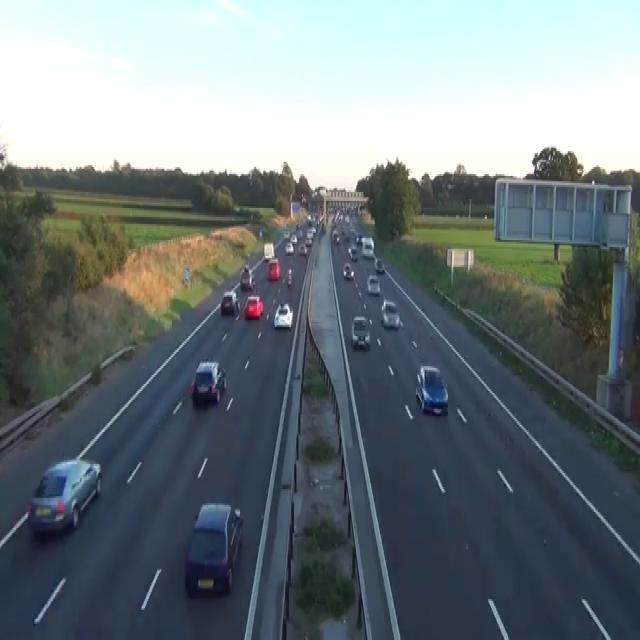Car: (26, 457, 102, 535), (184, 502, 243, 596), (189, 359, 226, 404), (415, 364, 448, 414), (350, 315, 370, 350), (380, 299, 399, 329), (273, 302, 293, 329), (243, 295, 263, 318), (220, 290, 238, 314), (240, 265, 255, 290), (267, 256, 280, 281), (366, 274, 380, 295), (361, 236, 374, 258), (343, 261, 354, 279), (347, 244, 358, 262), (283, 267, 292, 286), (374, 258, 385, 272), (284, 242, 293, 254), (331, 230, 339, 243), (298, 244, 307, 254), (300, 192, 307, 204), (355, 233, 363, 243), (304, 235, 312, 245), (308, 226, 316, 236), (290, 234, 297, 243), (297, 228, 303, 238), (283, 230, 289, 238), (258, 228, 262, 238), (295, 222, 300, 230)
Truck: (263, 242, 274, 260)
